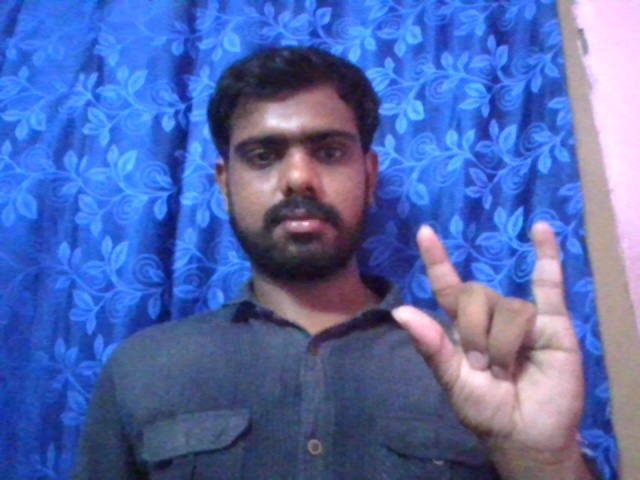IloveYou: (380, 211, 599, 453)
